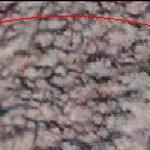alive: (4, 3, 146, 147)
